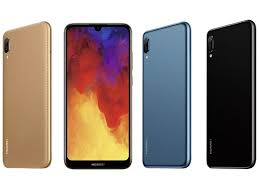huawei: (62, 20, 133, 171), (140, 19, 194, 169), (203, 19, 257, 169), (1, 19, 54, 169)
